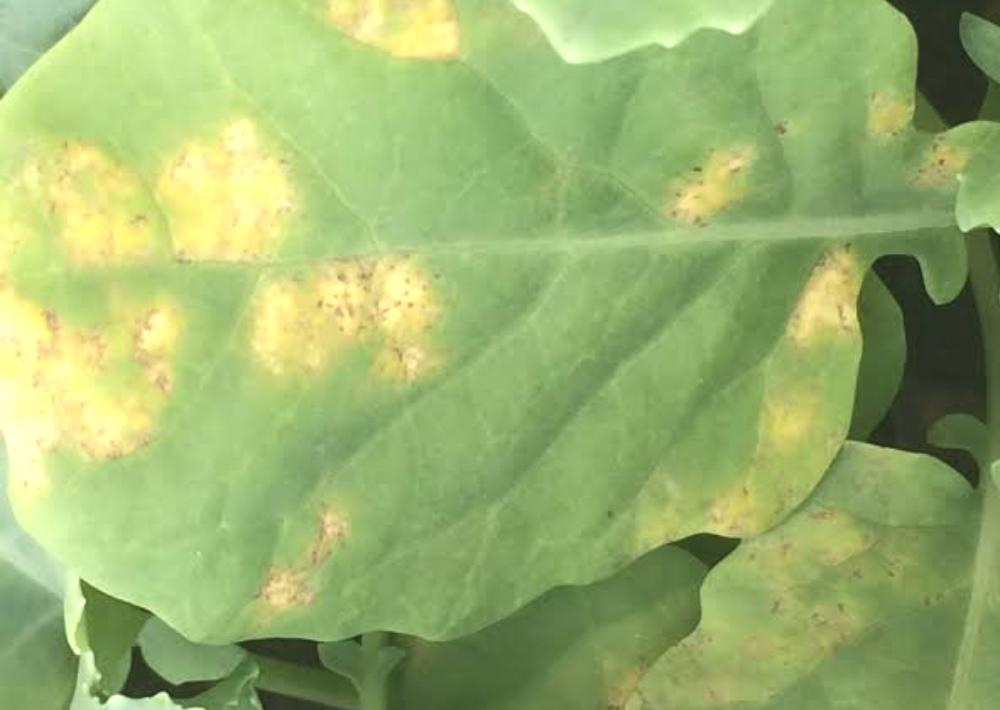Bok-Choy-Diseased: (27, 0, 929, 629)
